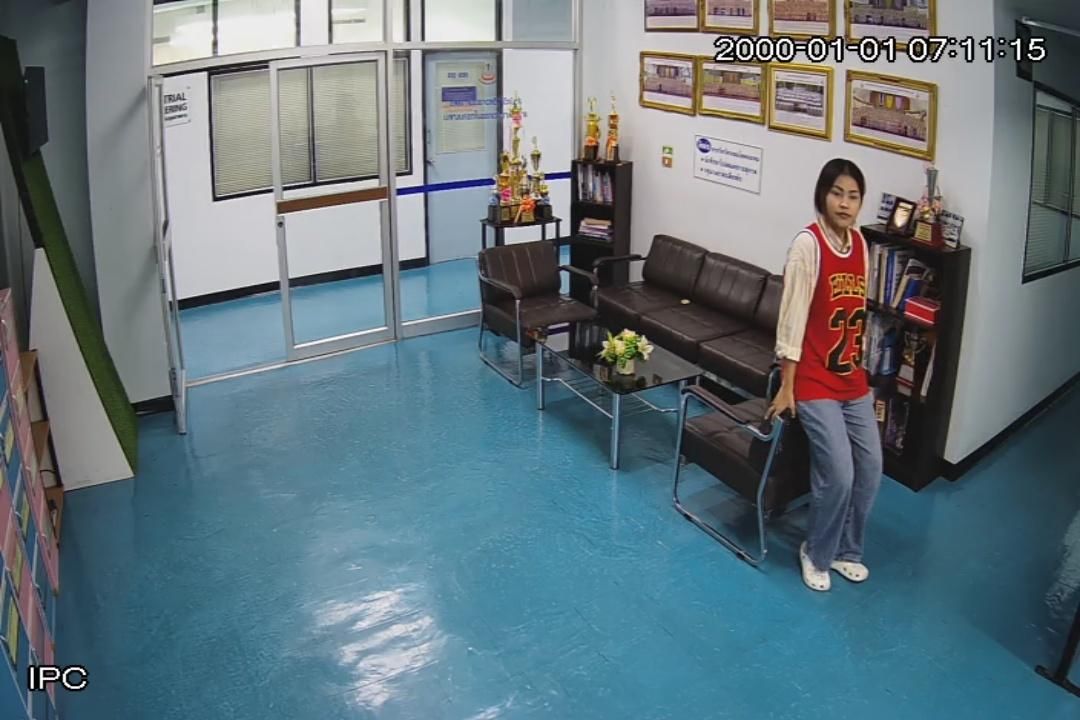normal: (765, 158, 883, 590)
